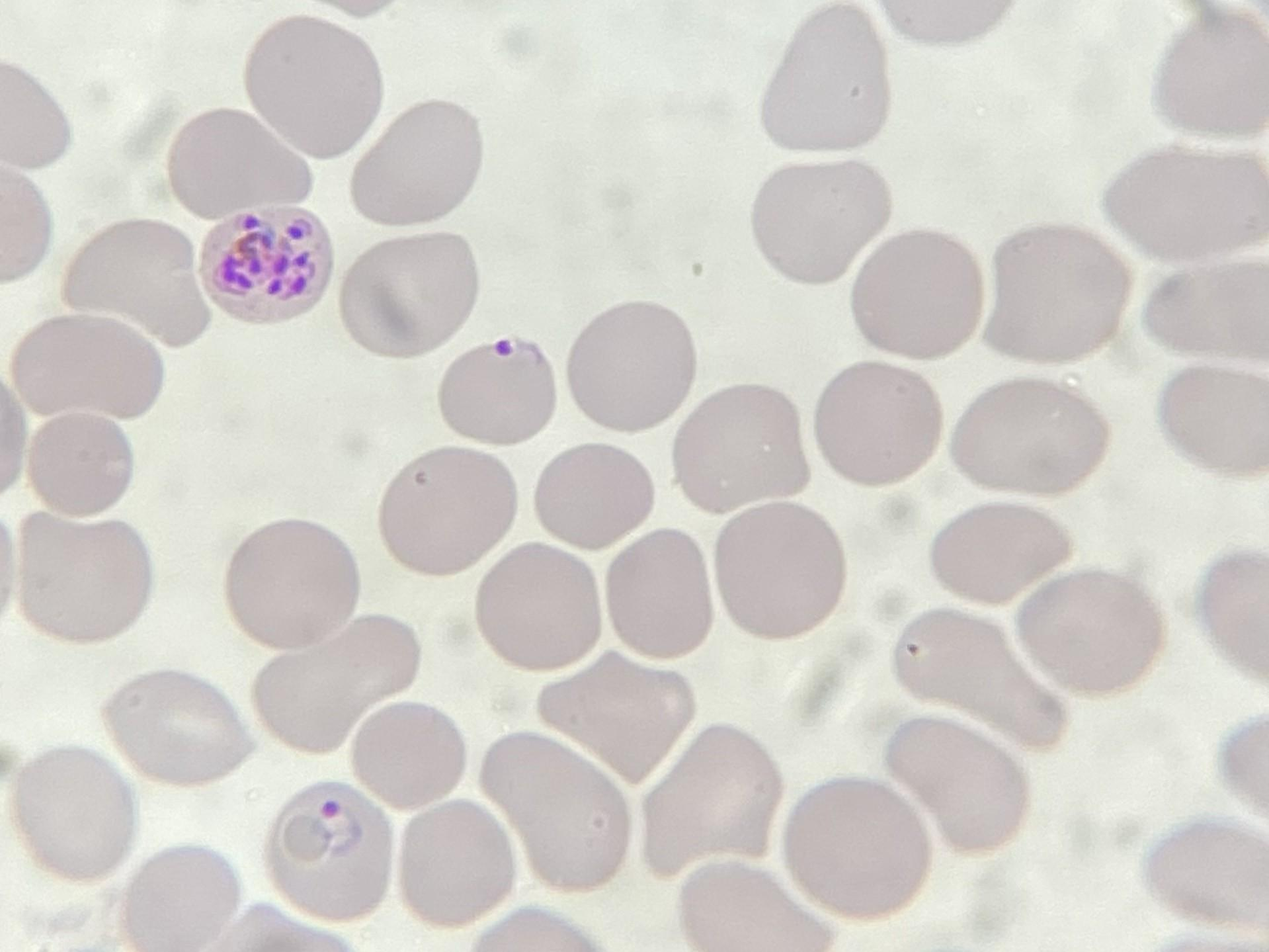Infected: (263, 784, 394, 922), (197, 205, 328, 321), (436, 335, 555, 447)
Uninfected: (479, 732, 631, 892), (893, 608, 1061, 748), (253, 617, 418, 756), (639, 726, 780, 877), (540, 648, 692, 786), (782, 777, 930, 918), (885, 717, 1032, 858), (243, 16, 383, 159), (983, 226, 1128, 363), (16, 509, 151, 651), (99, 670, 257, 790), (712, 499, 845, 640), (62, 219, 208, 347), (950, 377, 1107, 495), (764, 5, 890, 152), (1106, 148, 1266, 262), (224, 519, 362, 650), (1015, 570, 1159, 695), (379, 448, 518, 576), (848, 230, 983, 361), (13, 311, 166, 425), (9, 746, 134, 885), (339, 230, 478, 355), (671, 386, 808, 512), (566, 301, 697, 429), (752, 162, 889, 284), (808, 362, 940, 485), (352, 101, 484, 224), (473, 542, 599, 670), (167, 108, 311, 220), (927, 500, 1073, 609), (395, 799, 516, 928), (602, 528, 715, 660), (1156, 10, 1269, 138), (678, 861, 833, 950), (1147, 251, 1269, 363), (1144, 820, 1266, 930), (533, 442, 653, 552), (350, 700, 467, 811), (24, 410, 140, 519), (122, 847, 240, 951), (1160, 365, 1269, 476), (1198, 549, 1269, 692)
